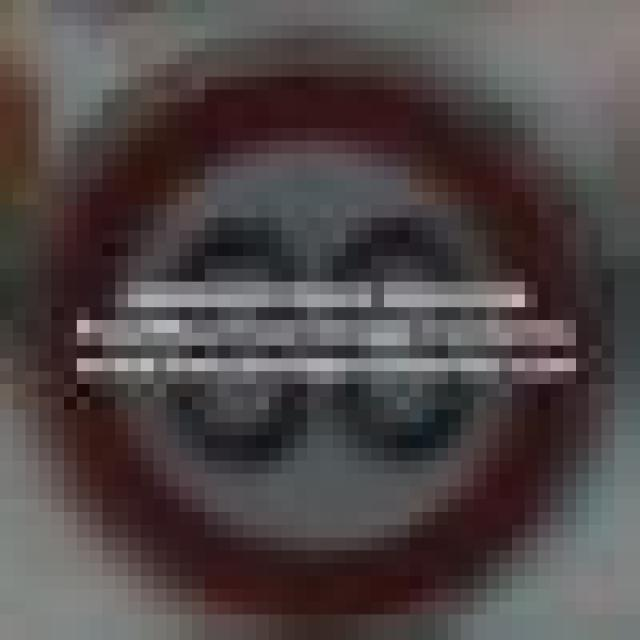speed_limit_50: (26, 51, 588, 589)
